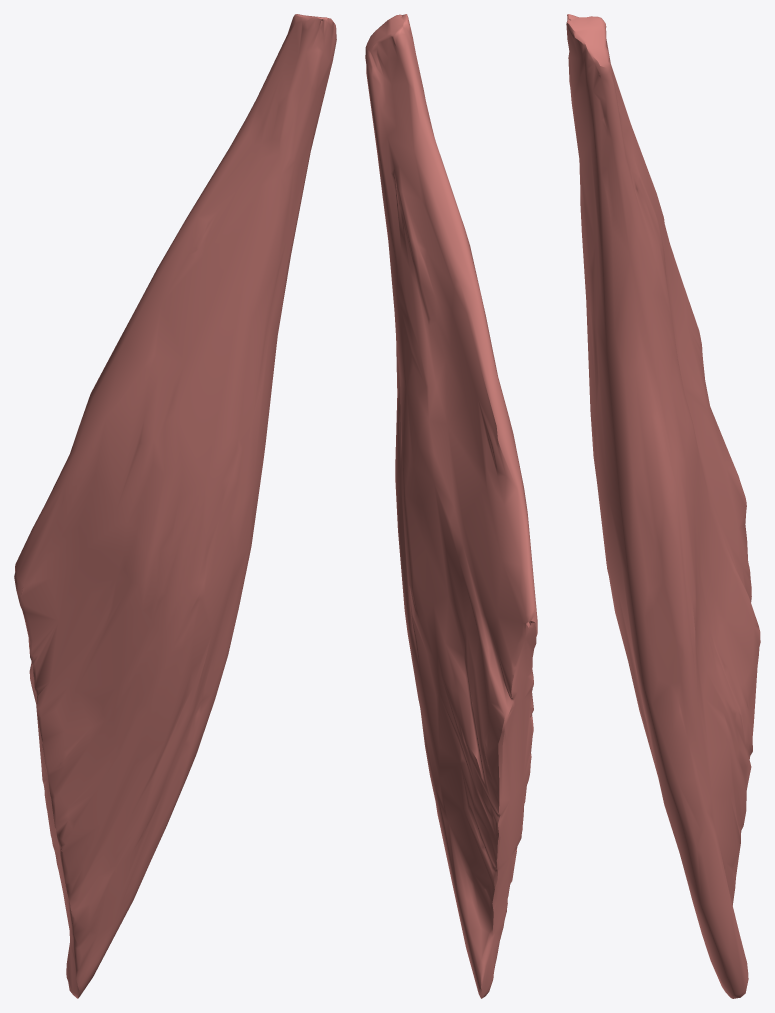
The model's file is fma22456_fj1402.glb.
3 renders of one model, left to right at view 1: azimuth 30°, elevation 25°; view 2: azimuth 150°, elevation 25°; view 3: azimuth 270°, elevation 25°, orthographic. The views are drawn at different scales.
Parts seen in each view (by area): view 1: FMA22456_FJ1402; view 2: FMA22456_FJ1402; view 3: FMA22456_FJ1402.
Part boxes in pixels (<box>): FMA22456_FJ1402: <box>14,14,336,998</box>; FMA22456_FJ1402: <box>365,14,537,998</box>; FMA22456_FJ1402: <box>566,14,760,998</box>.
Size of the model in its own units: 0.0771 by 0.2895 by 0.0476.
